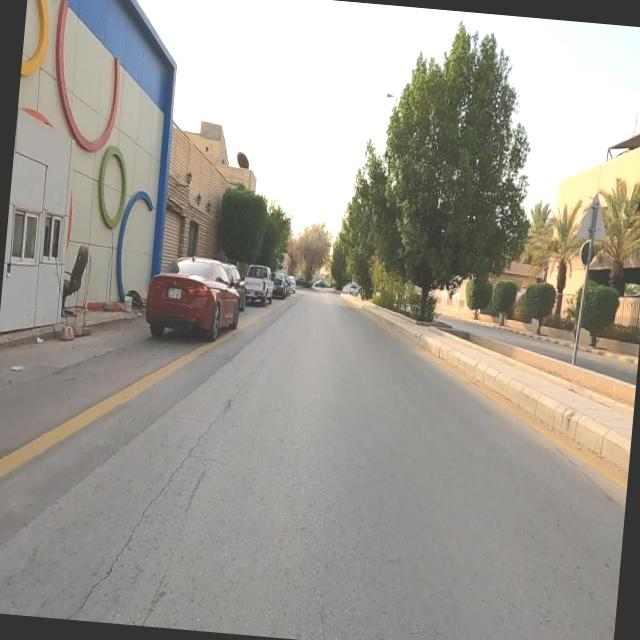debris: (48, 240, 181, 360), (48, 299, 87, 365)
